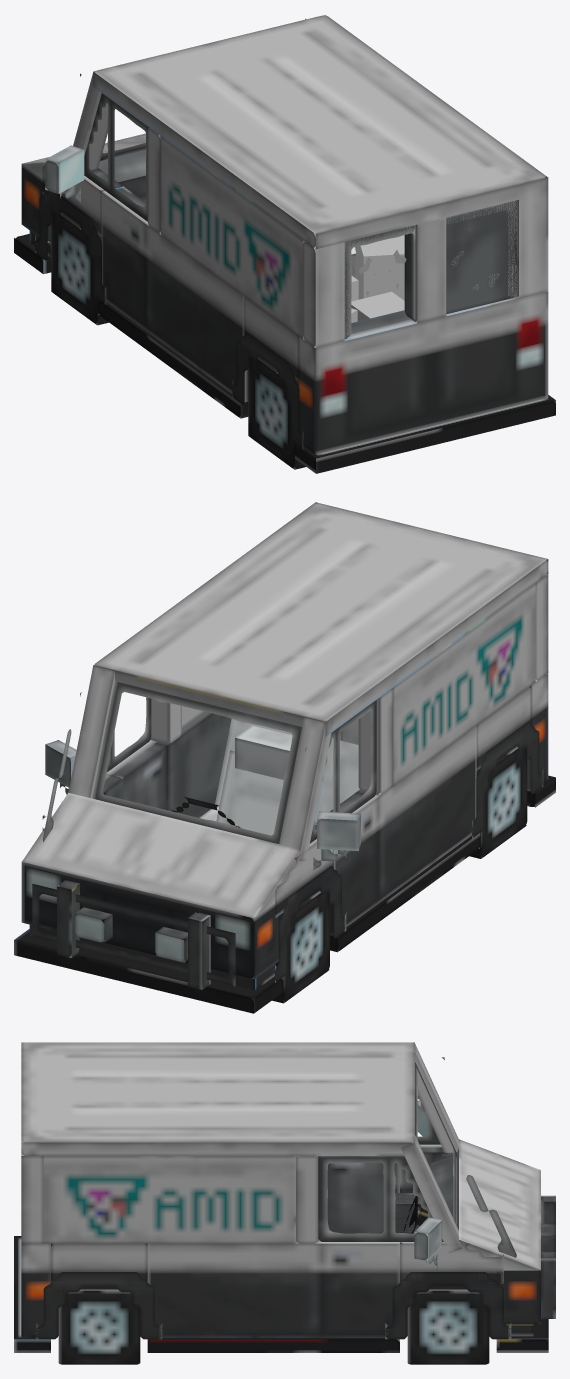
Rendered from Amid.fbx.
3 renders of one model, top to bottom at view 1: azimuth 30°, elevation 25°; view 2: azimuth 150°, elevation 25°; view 3: azimuth 270°, elevation 25°, orthographic. The views are drawn at different scales.
Parts seen in each view (by area): view 1: cube_39, cube_14, cube_13, cube_35, cube_68, cube_22, cube_38, cube_36, cube_10, cube_11, cube_42, cube_23 (+15 smaller); view 2: cube_39, cube_27, cube_13, cube_35, cube_20, cube_19, cube_21, cube_29, cube_30, cube_11, cube_10, cube_3 (+22 smaller); view 3: cube_39, cube_19, cube_40, cube_27, cube_9, cube_12, cube_13, cube_23, cube_66, cube_67, cube_34, cube_17 (+18 smaller).
Boxes of the visible parts, box(x1,y1,x2,y2) form: cube_39: box(93, 15, 548, 249); cube_14: box(298, 291, 548, 454); cube_13: box(101, 186, 248, 402); cube_35: box(160, 136, 315, 338); cube_68: box(446, 200, 516, 314); cube_22: box(295, 395, 555, 473); cube_38: box(303, 241, 344, 347); cube_36: box(404, 217, 446, 323); cube_10: box(51, 212, 108, 325); cube_11: box(248, 356, 305, 469); cube_42: box(517, 193, 548, 298); cube_23: box(98, 299, 248, 418); cube_39: box(94, 502, 548, 736); cube_27: box(22, 793, 300, 921); cube_13: box(314, 725, 476, 935); cube_35: box(379, 583, 535, 786); cube_20: box(21, 862, 279, 979); cube_19: box(107, 711, 231, 817); cube_21: box(14, 929, 283, 1013); cube_29: box(92, 681, 301, 843); cube_30: box(279, 717, 333, 860); cube_11: box(469, 745, 527, 858); cube_10: box(272, 890, 329, 1003); cube_3: box(216, 750, 324, 835); cube_39: box(21, 1042, 414, 1155); cube_19: box(147, 1239, 399, 1337); cube_40: box(43, 1156, 295, 1243); cube_27: box(457, 1139, 540, 1270); cube_9: box(407, 1285, 489, 1364); cube_12: box(58, 1285, 140, 1364); cube_13: box(327, 1162, 399, 1233); cube_23: box(147, 1338, 399, 1352); cube_66: box(385, 1272, 511, 1339); cube_67: box(36, 1272, 162, 1339); cube_34: box(318, 1154, 444, 1241); cube_17: box(51, 1243, 147, 1281).
Size of the model in its own units: 135 by 103 by 228.
